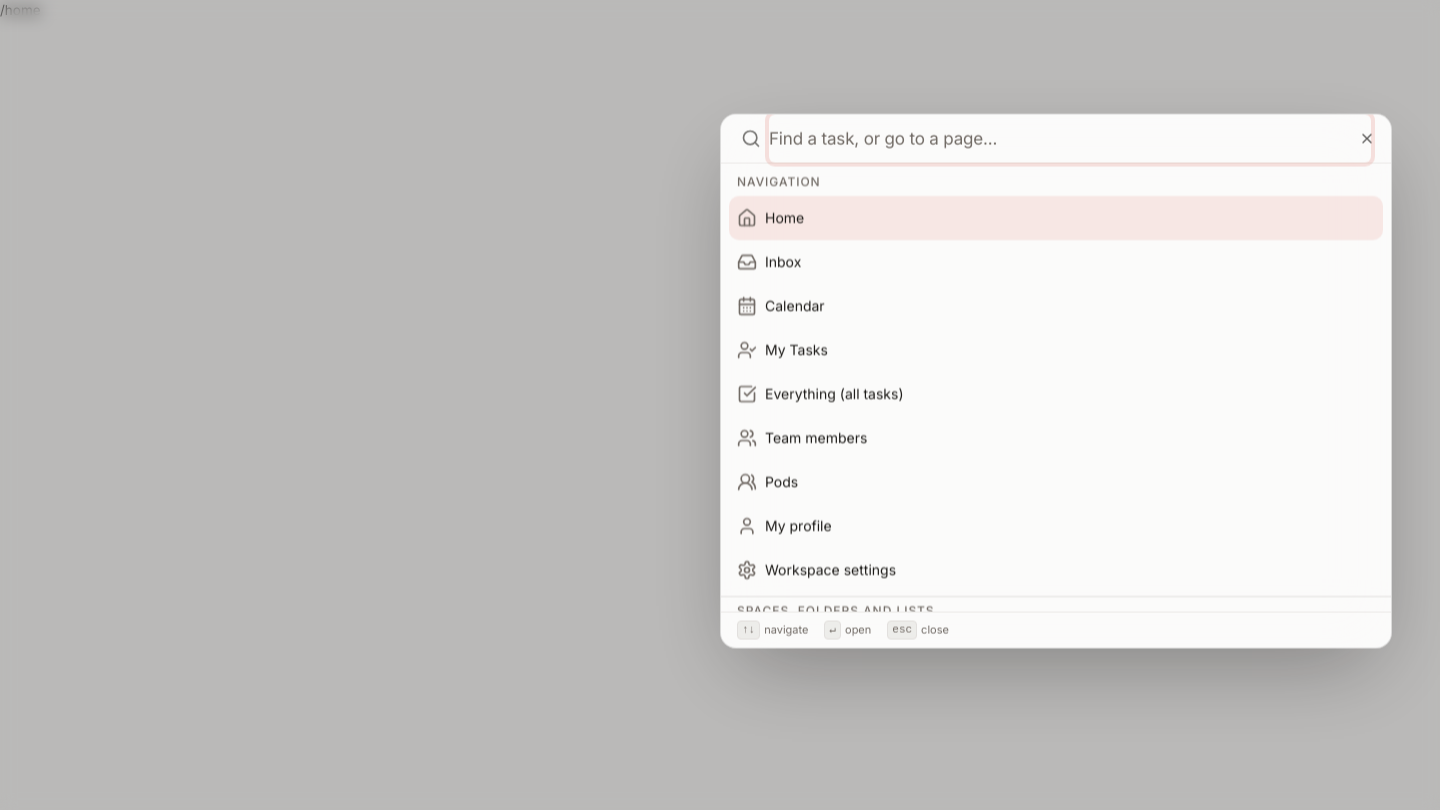
Test: find any task from the command palette › lists Everything (all tasks) as a place to go
The width and height of the screenshot is (1440, 810).
Click the option "Everything (all tasks)". click: {"x": 820, "y": 393}
box: [737,383,904,403]
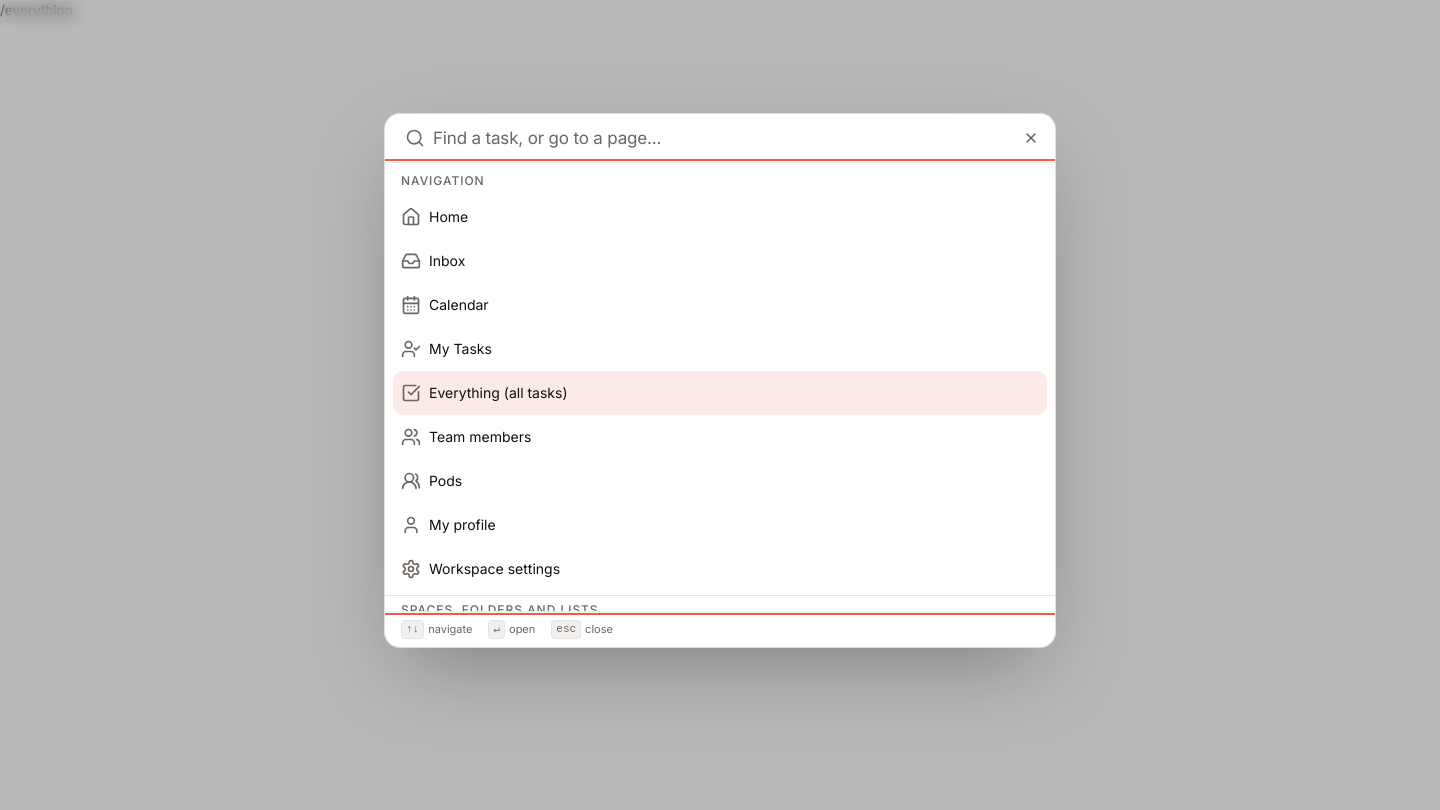
Now the text with test id "where" reads "/everything", box [0,2,73,18]
